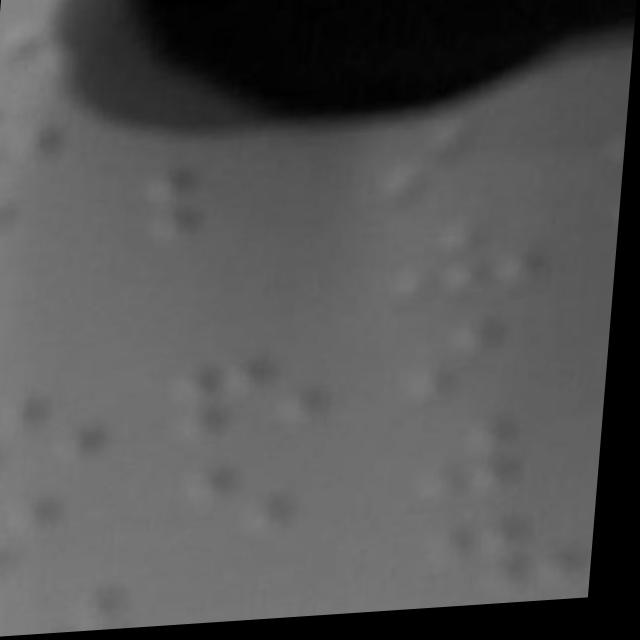braiile: (414, 409, 600, 515), (168, 347, 369, 445), (133, 155, 333, 253), (182, 450, 371, 550), (384, 207, 566, 308), (397, 312, 580, 412), (424, 512, 603, 607), (0, 490, 145, 582), (0, 388, 139, 483), (0, 573, 147, 638)
